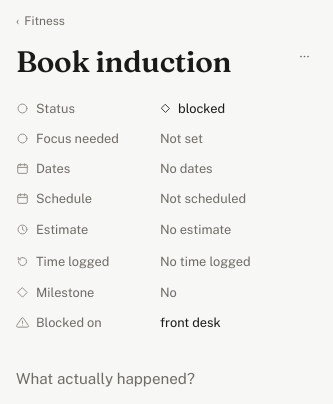
it: TaskPage › offers rename and delete for a top-level leaf, and not the chip verbs
What coordinates should you click on to do the following:
click the button named "Actions for "
I would click on:
 (304, 56)
Its box is 292,44 -> 316,68.
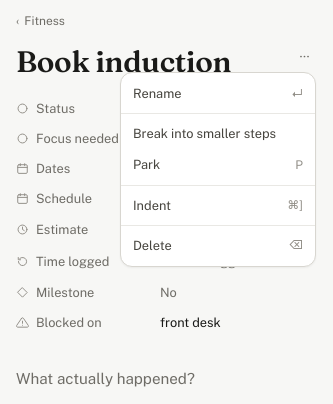
Expected: the menu item "Rename ↵" is shown, 121,78 -> 315,109
Expected: the menu item "Delete ⌫" is shown, 121,230 -> 315,261
